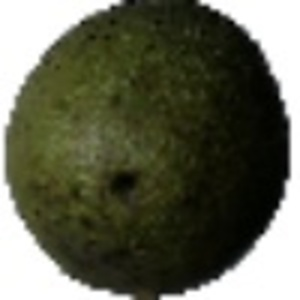abacate: (6, 2, 290, 292)
